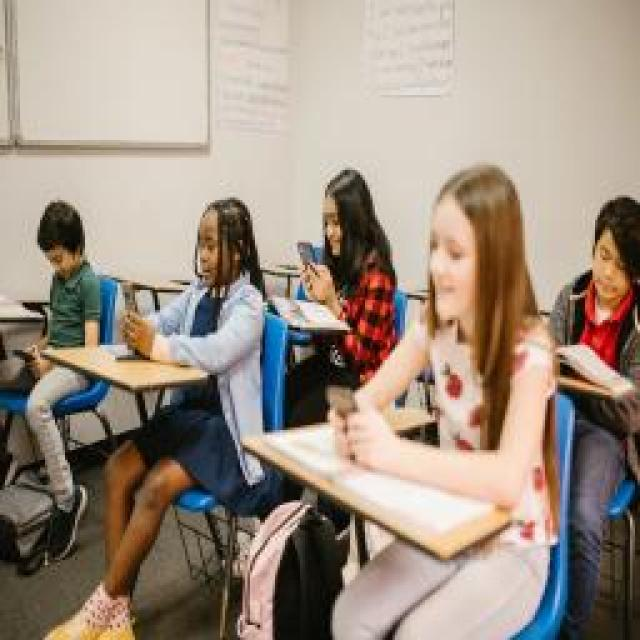phone: (325, 150, 547, 510), (120, 198, 265, 370), (298, 170, 400, 328), (10, 205, 100, 383)
